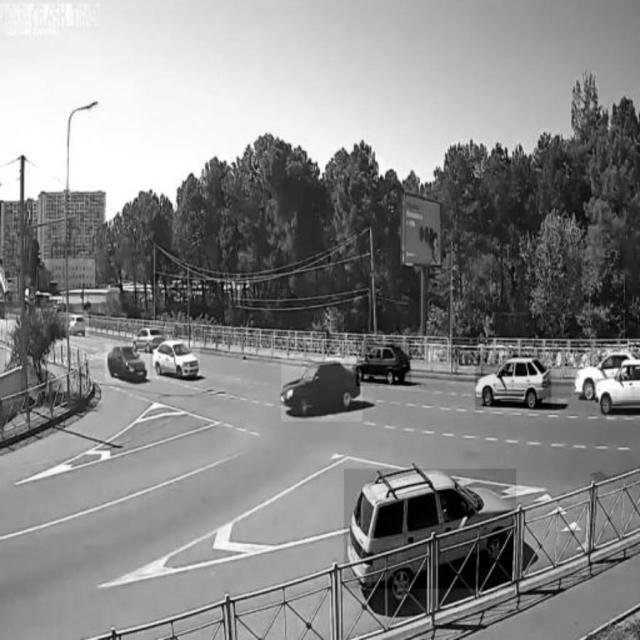vehicle: (344, 469, 516, 589), (282, 357, 363, 421), (476, 356, 552, 408), (595, 361, 640, 418), (357, 341, 412, 387), (571, 352, 622, 399), (152, 336, 200, 378), (105, 344, 150, 382), (67, 309, 89, 337)
